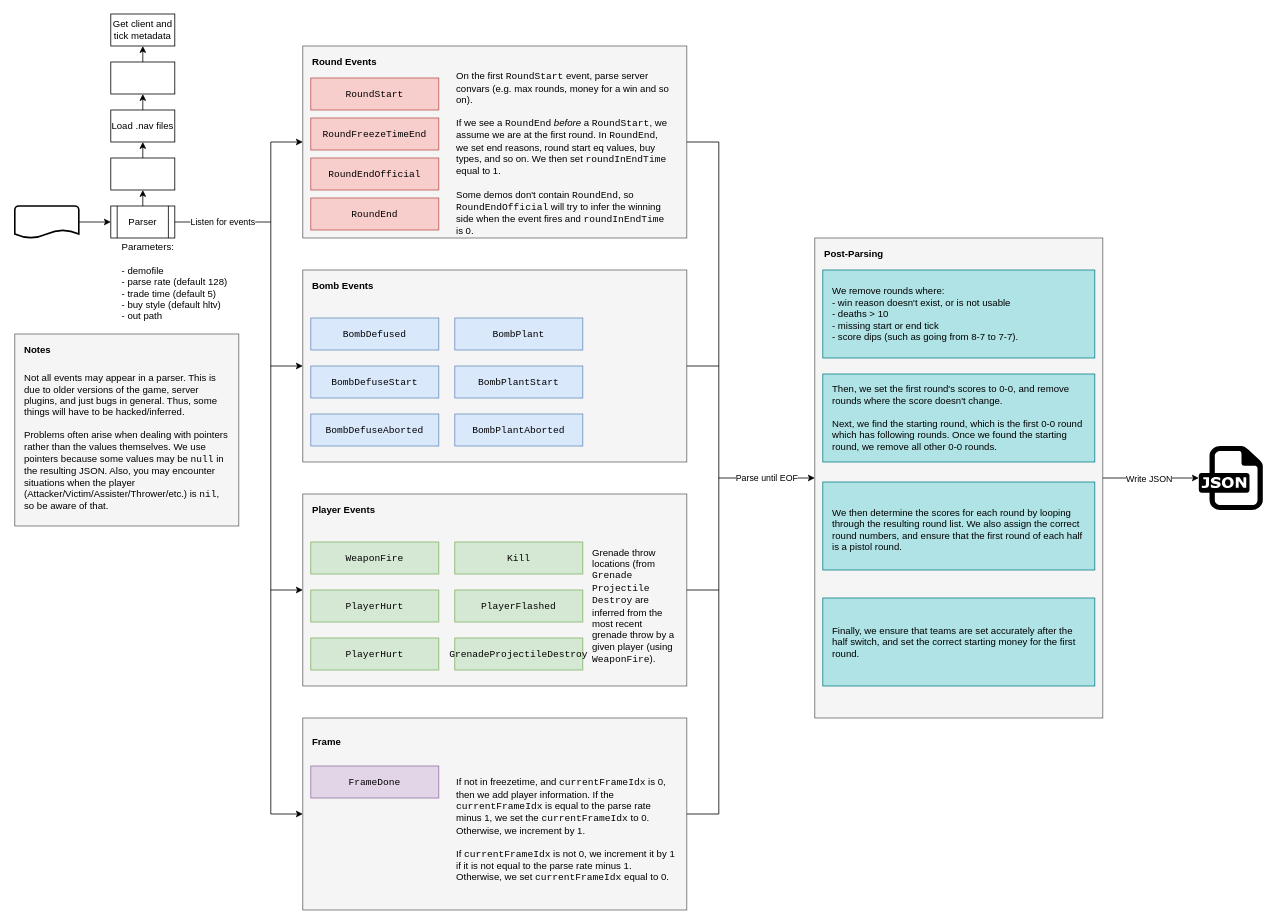
This 1277x924 diagram has some shape labels left out. The centre of each missing label's shape, as x and y in pixels:
"*.dem" belongs at [46,221].
"Determine map" belongs at [142,77].
"Gather params" belongs at [142,173].
